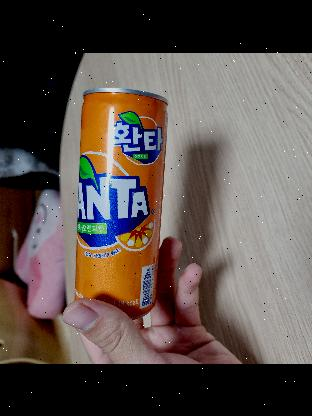Can: (60, 84, 164, 316)
